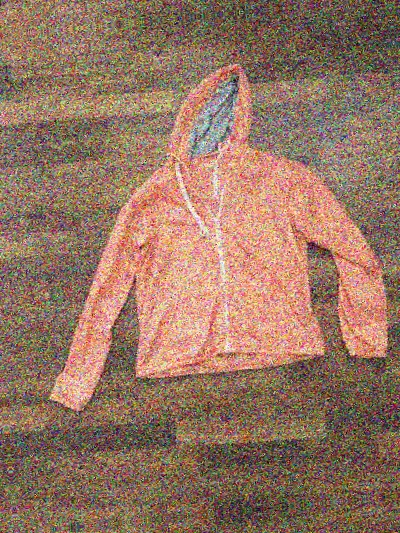Hoodie: (27, 59, 399, 442)
